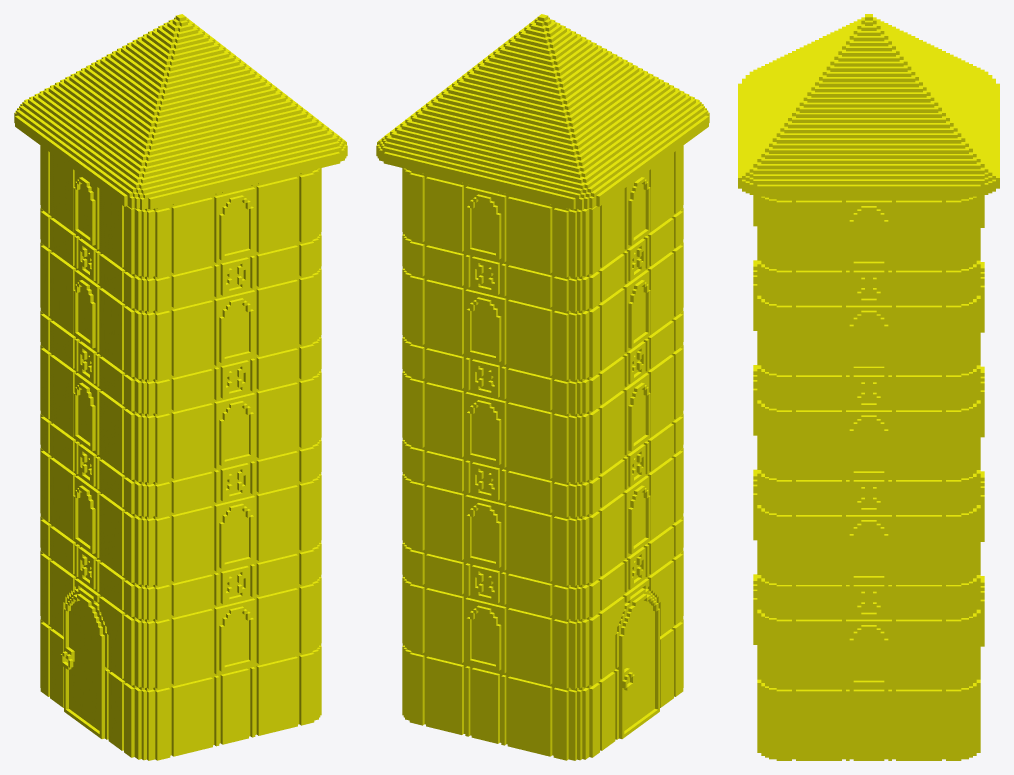
Rendered from voxel-wizards-tower.glb.
3 views of the same model, side by side, from view 1: azimuth 30°, elevation 25°; view 2: azimuth 150°, elevation 25°; view 3: azimuth 270°, elevation 25° (orthographic).
Parts seen in each view (by area): view 1: VS_Wizards_Tower; view 2: VS_Wizards_Tower; view 3: VS_Wizards_Tower.
Boxes of the visible parts, box(x1,y1,x2,y2) form: VS_Wizards_Tower: box(14, 14, 347, 760); VS_Wizards_Tower: box(376, 14, 709, 760); VS_Wizards_Tower: box(738, 14, 999, 760).
Size of the model in its own units: 6.8 by 20 by 6.8.
